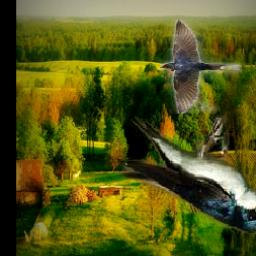Swallow: (115, 113, 256, 234), (161, 21, 243, 115)
